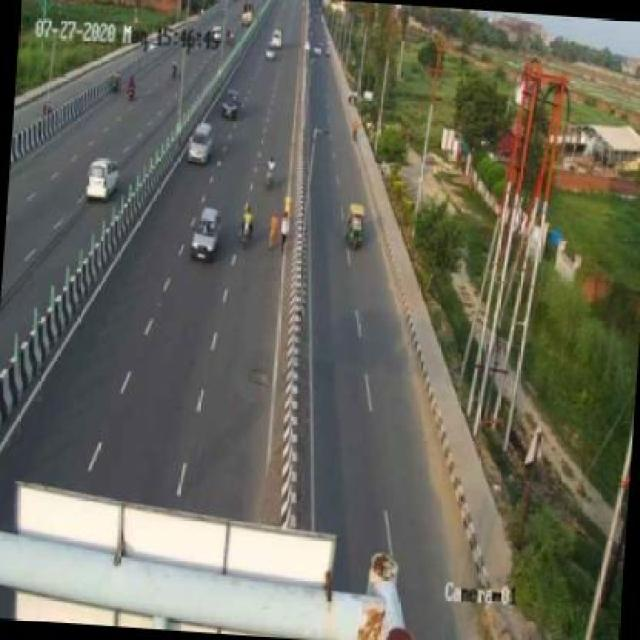car: (188, 205, 226, 266), (180, 118, 220, 174), (83, 155, 126, 203), (217, 85, 241, 123)
